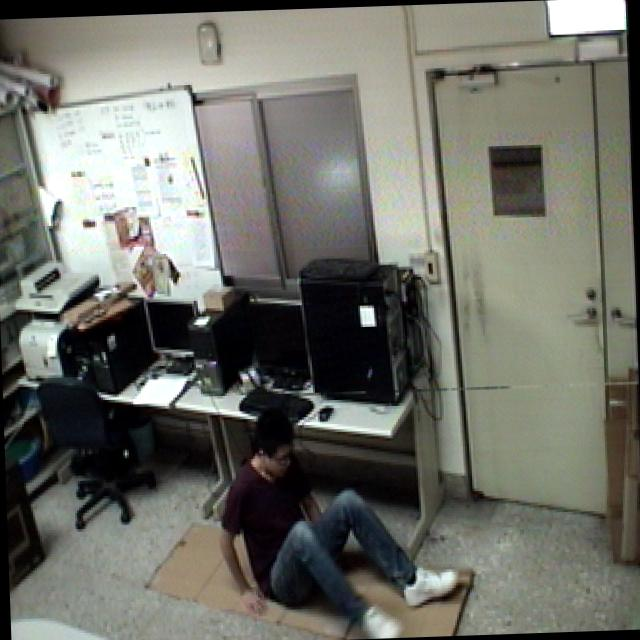sit: (208, 397, 469, 640)
